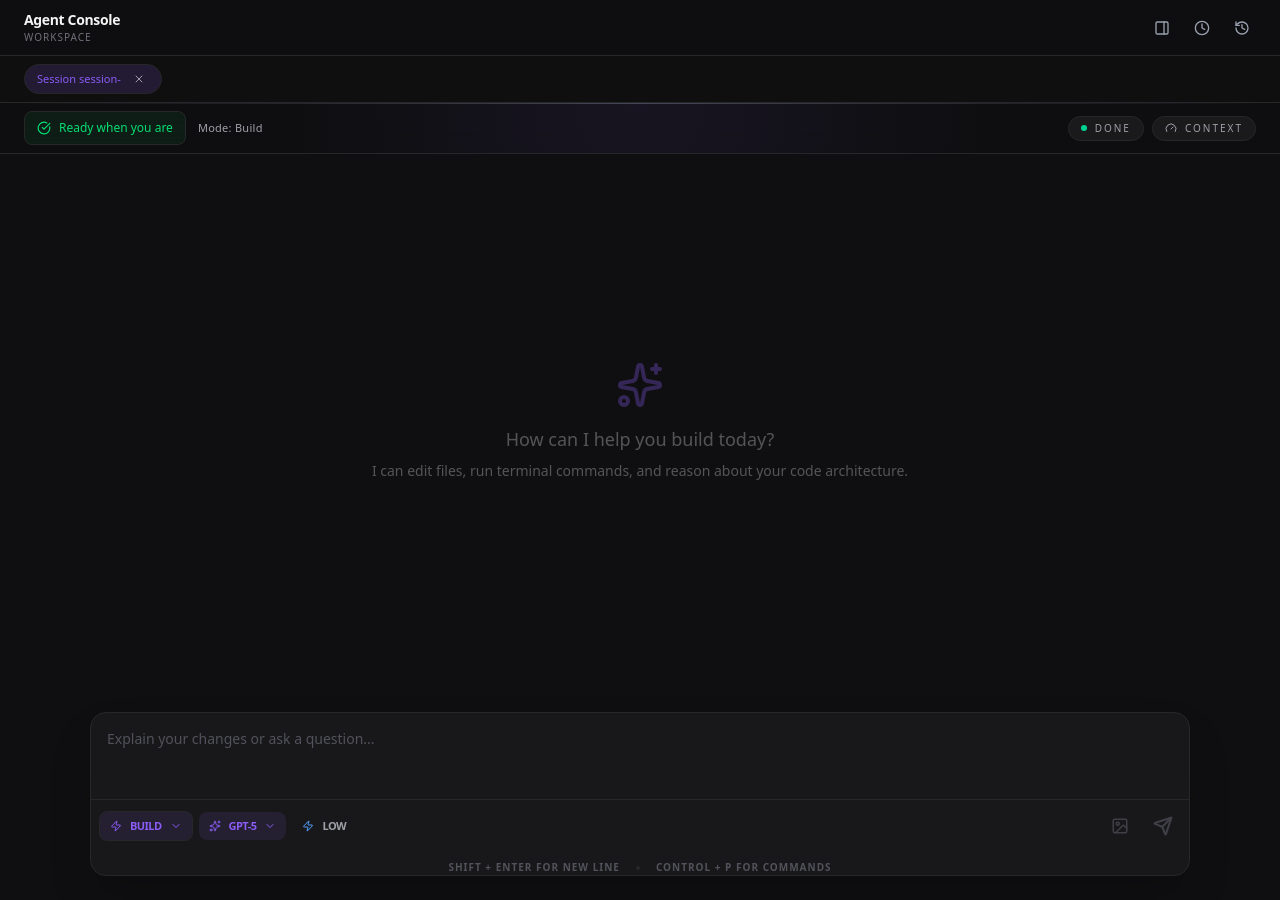
Scenario: Chat slash commands › handles /agents command
This screenshot has width=1280, height=900.
Type "/agents " into the text box with placeholder "Explain your changes or ask a question..." at (640, 749), box 91,713 -> 1189,785
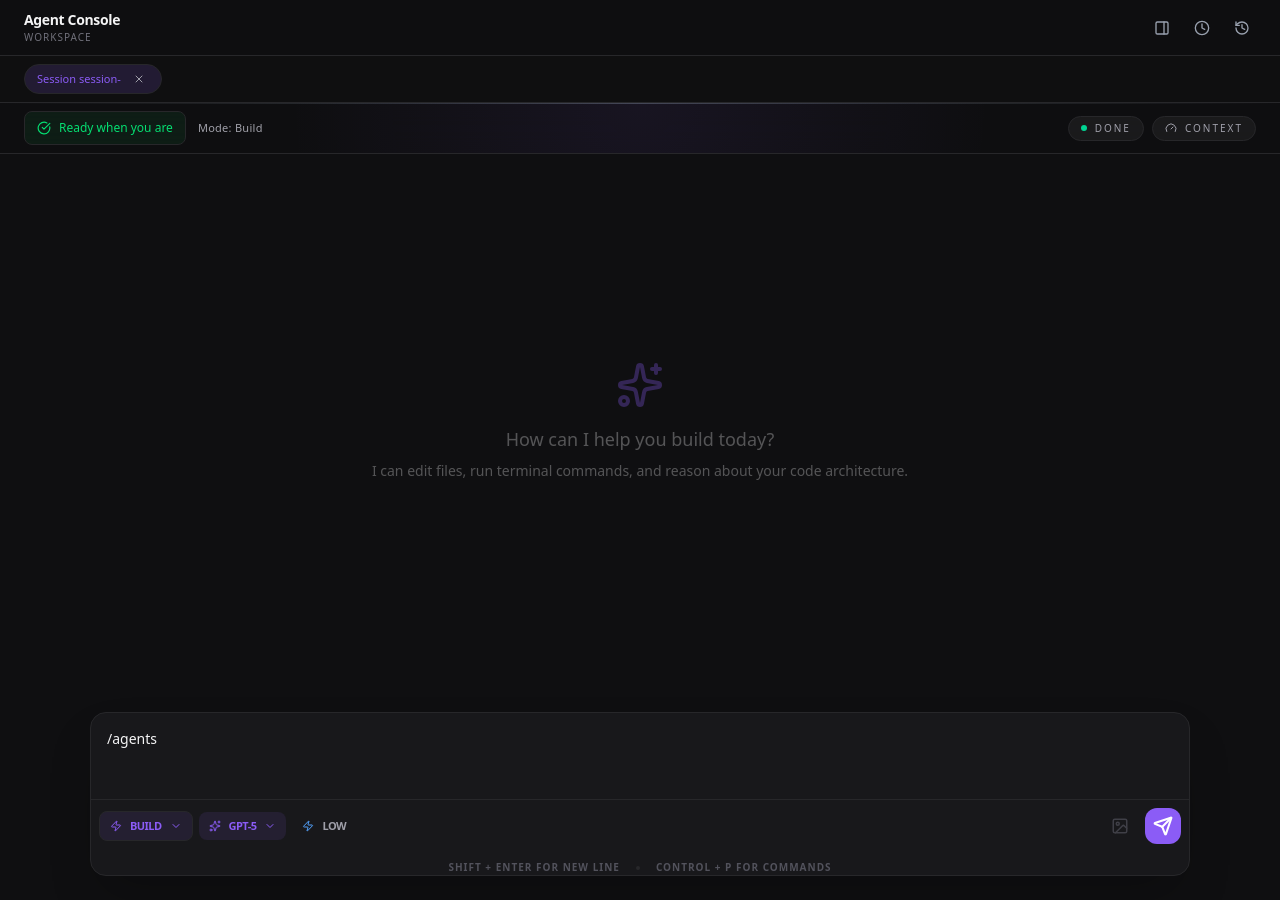
Press Enter in the text box with placeholder "Explain your changes or ask a question...", box 91,713 -> 1189,785
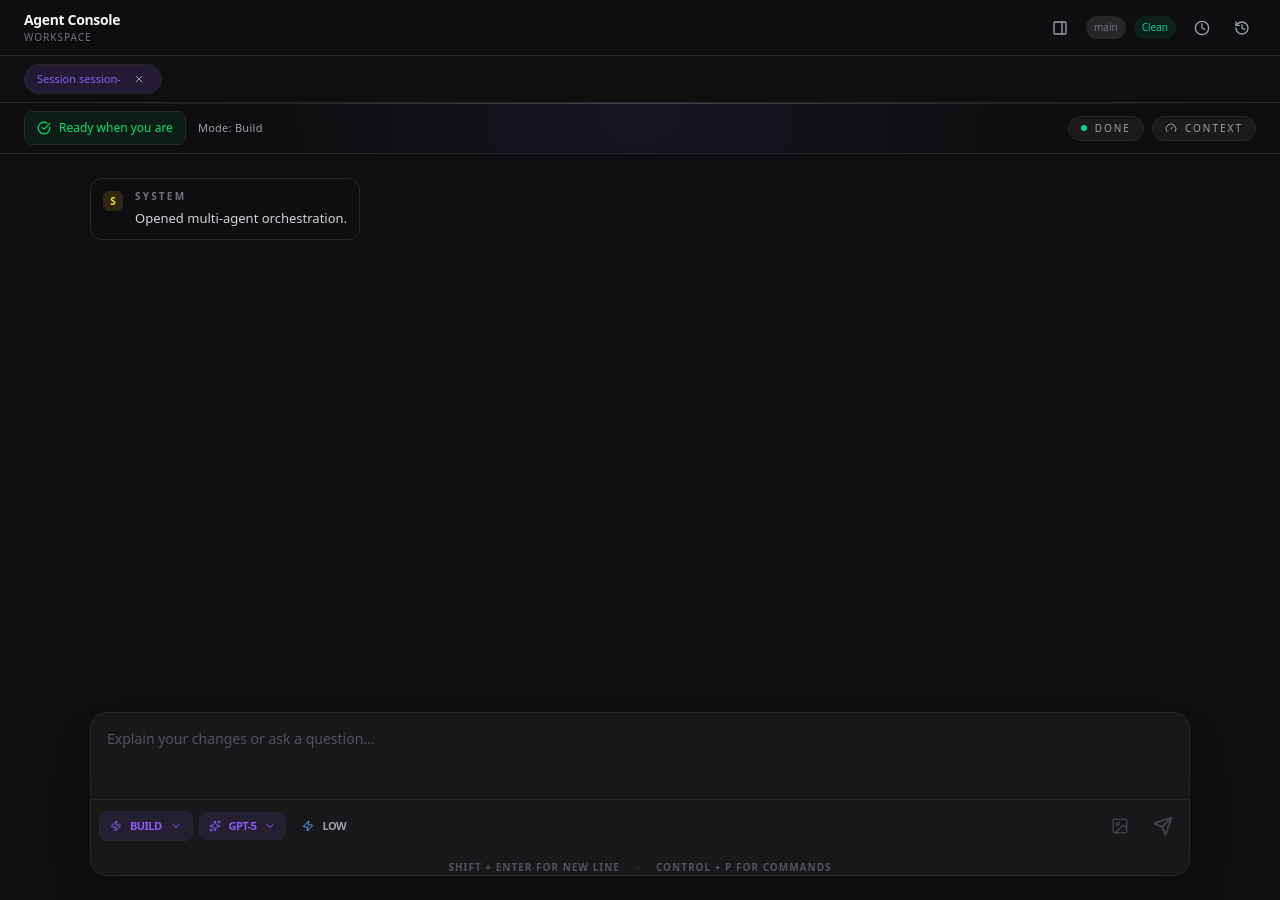
Expected: the text "Opened multi-agent orchestration." is shown, 135,208 -> 347,229
